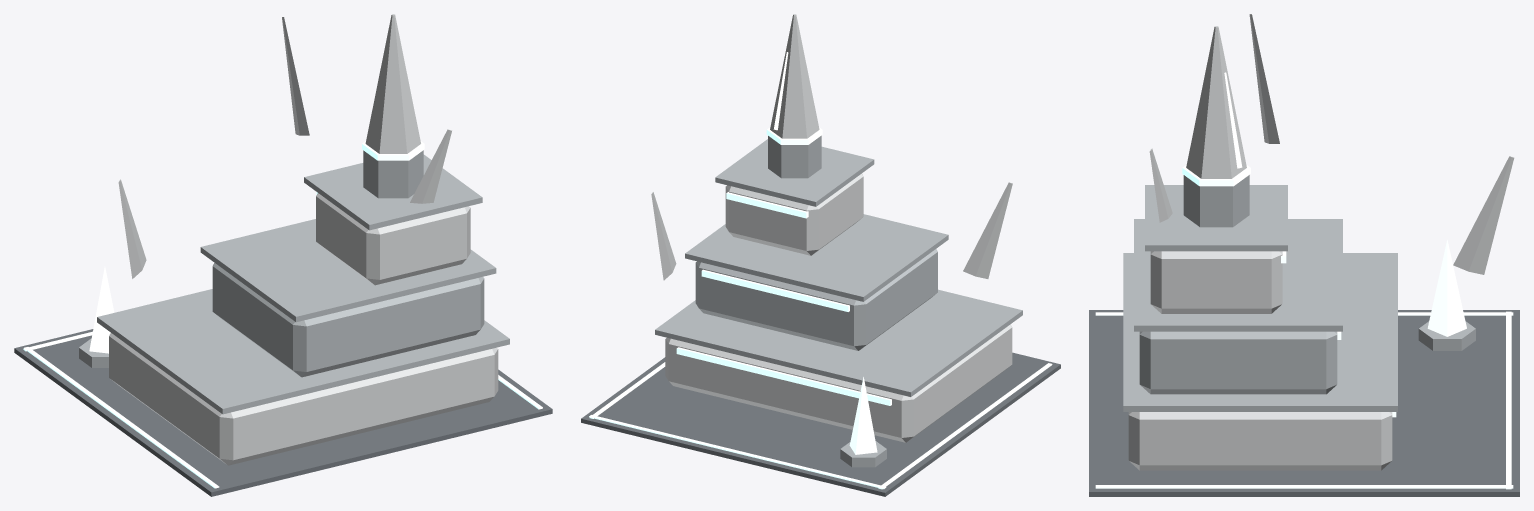
The model's file is zone_low_3.glb.
3 renders of one model, left to right at view 1: azimuth 30°, elevation 25°; view 2: azimuth 150°, elevation 25°; view 3: azimuth 270°, elevation 25°, orthographic. The views are drawn at different scales.
Visible parts, largest first — view 1: zone_low_3, detail; view 2: zone_low_3, detail; view 3: zone_low_3, detail.
Part boxes in pixels (<box>): zone_low_3: <box>14,14,552,496</box>; detail: <box>23,331,542,488</box>; zone_low_3: <box>581,14,1060,496</box>; detail: <box>589,362,1052,489</box>; zone_low_3: <box>1089,14,1519,496</box>; detail: <box>1095,311,1513,489</box>.
Bounding box in the file's own units: 20.72 × 20.91 × 19.6.
